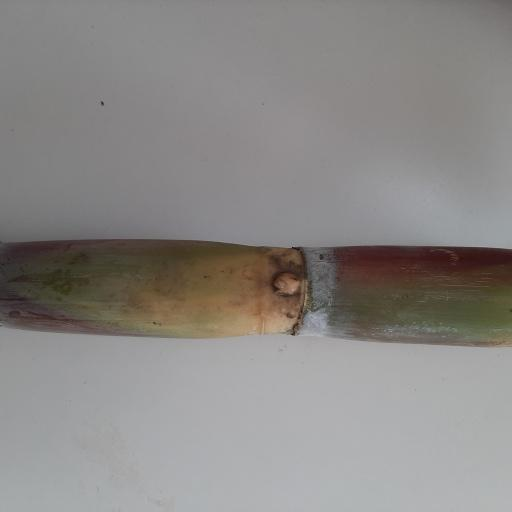Bud: (272, 272, 307, 296)
